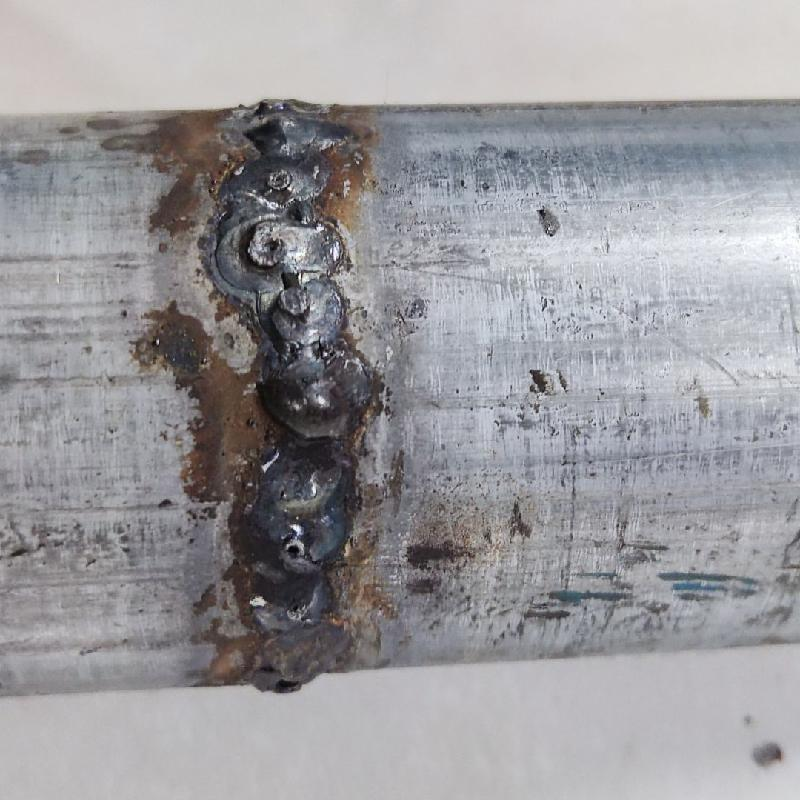Not_fully_soldered: (223, 625, 368, 676)
Surface_pores: (248, 232, 288, 265), (260, 674, 311, 699), (263, 165, 297, 195), (280, 540, 303, 566)
Weld: (256, 369, 356, 443)
